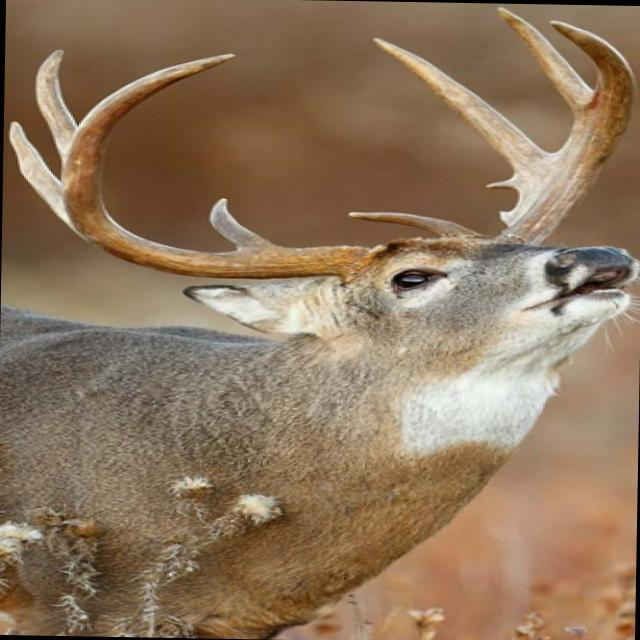E1: (481, 174, 518, 190)
L-G1: (344, 211, 494, 238)
L-G2: (369, 36, 552, 174)
L-G3: (493, 5, 594, 117)
R-F: (63, 52, 389, 284)
R-G1: (205, 197, 284, 251)
R-G2: (8, 118, 92, 245)
R-G3: (33, 47, 77, 173)
